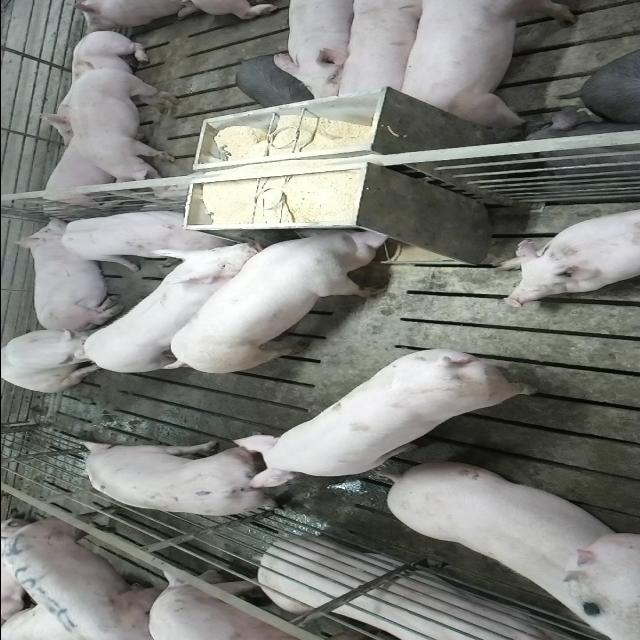Feeding: (165, 218, 394, 370)
Sitting: (1, 326, 111, 392)
Standing: (377, 458, 632, 634), (238, 342, 548, 486), (78, 243, 266, 377), (390, 1, 582, 130), (0, 515, 170, 640), (71, 436, 285, 518), (72, 65, 176, 186), (332, 3, 429, 105), (274, 0, 358, 103), (60, 211, 214, 267)
Sternal_lying: (227, 540, 623, 640), (498, 204, 640, 306), (31, 31, 157, 143), (12, 218, 128, 330), (34, 136, 120, 212)
